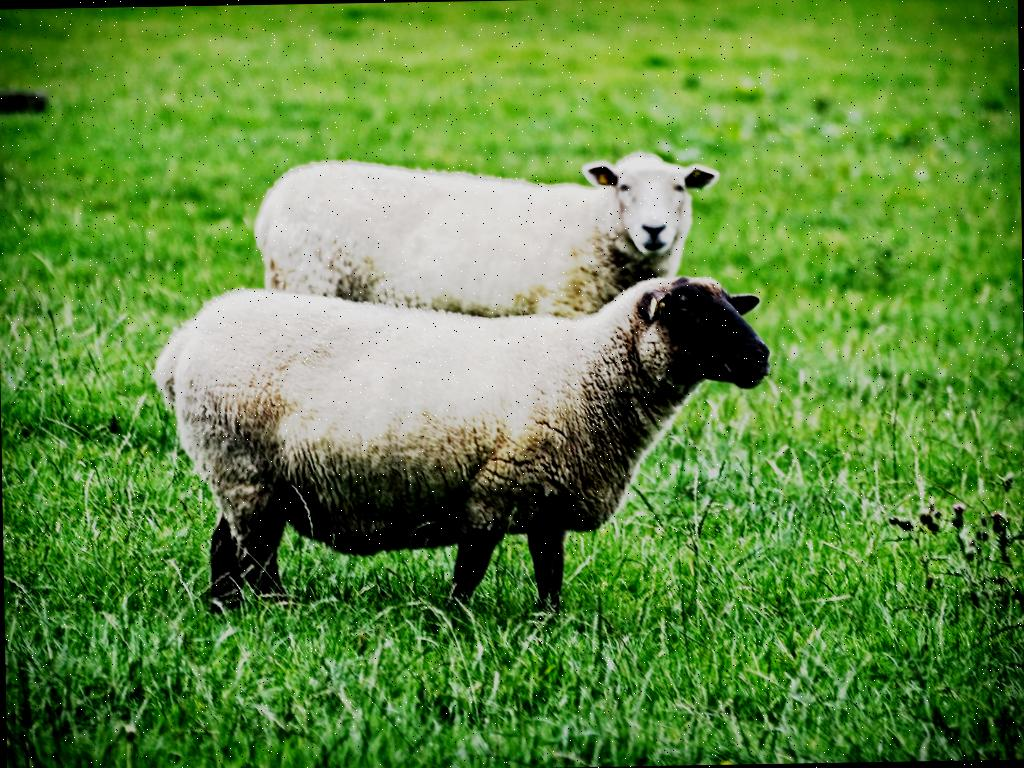Sheep: (149, 271, 777, 610), (250, 145, 720, 319)
